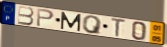0: (131, 21, 148, 42)
B: (17, 5, 36, 26)
M: (60, 11, 82, 33)
P: (35, 7, 56, 28)
Q: (82, 15, 103, 36)
T: (110, 17, 127, 38)
